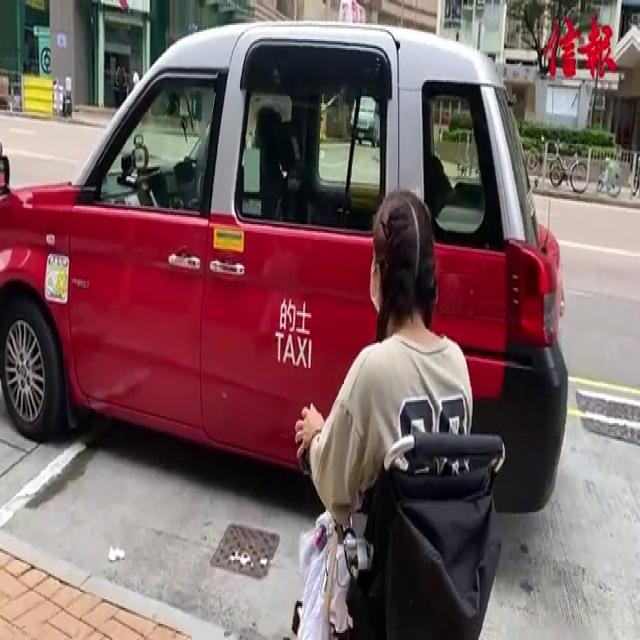wheelchairs: (289, 376, 508, 640)
